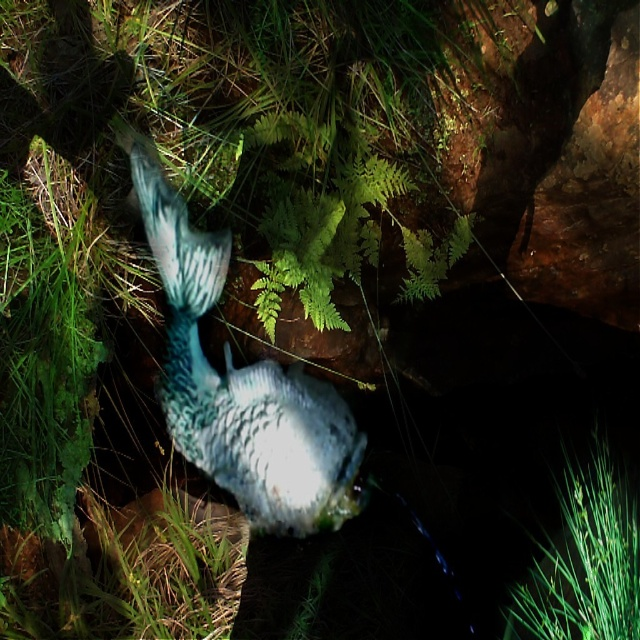Fish: (127, 172, 376, 556)
